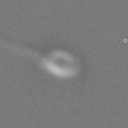normal: (1, 33, 45, 61)
